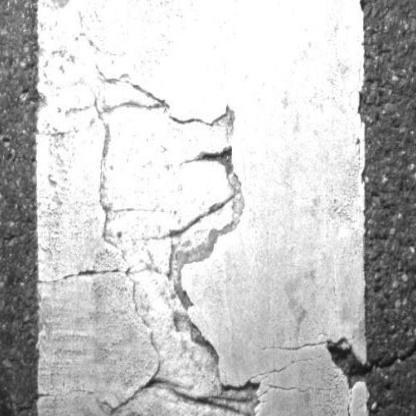Cracks: (330, 334, 416, 376)
